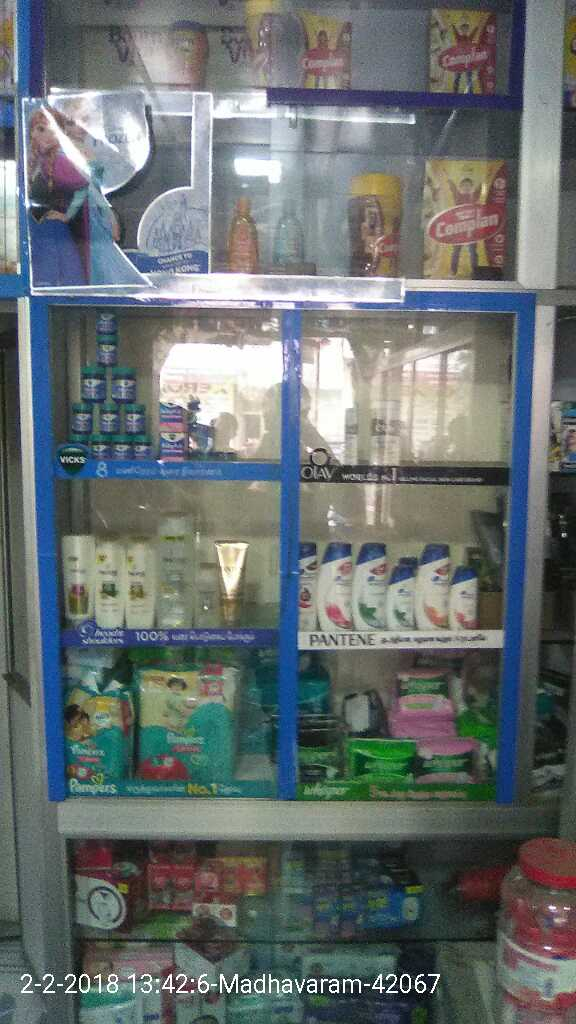vicks: (63, 305, 214, 458)
